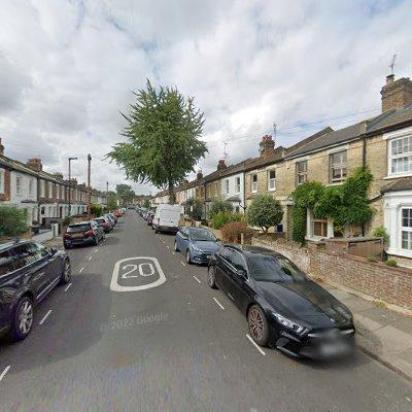stationary-car-onstreet: (206, 241, 356, 367), (0, 237, 74, 345), (174, 225, 223, 264), (63, 219, 104, 247), (92, 217, 110, 233)
stationary-light-truck-onstreet: (150, 203, 182, 235)
